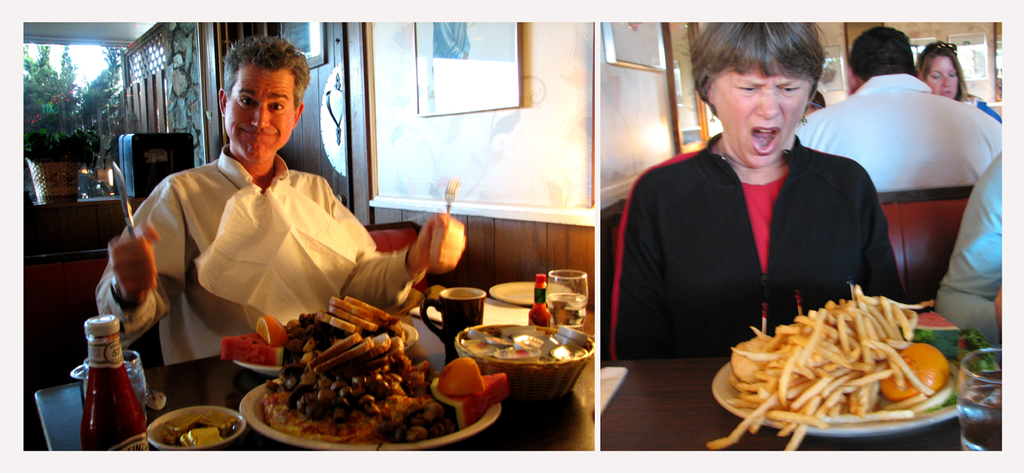French fries: (724, 296, 945, 438)
